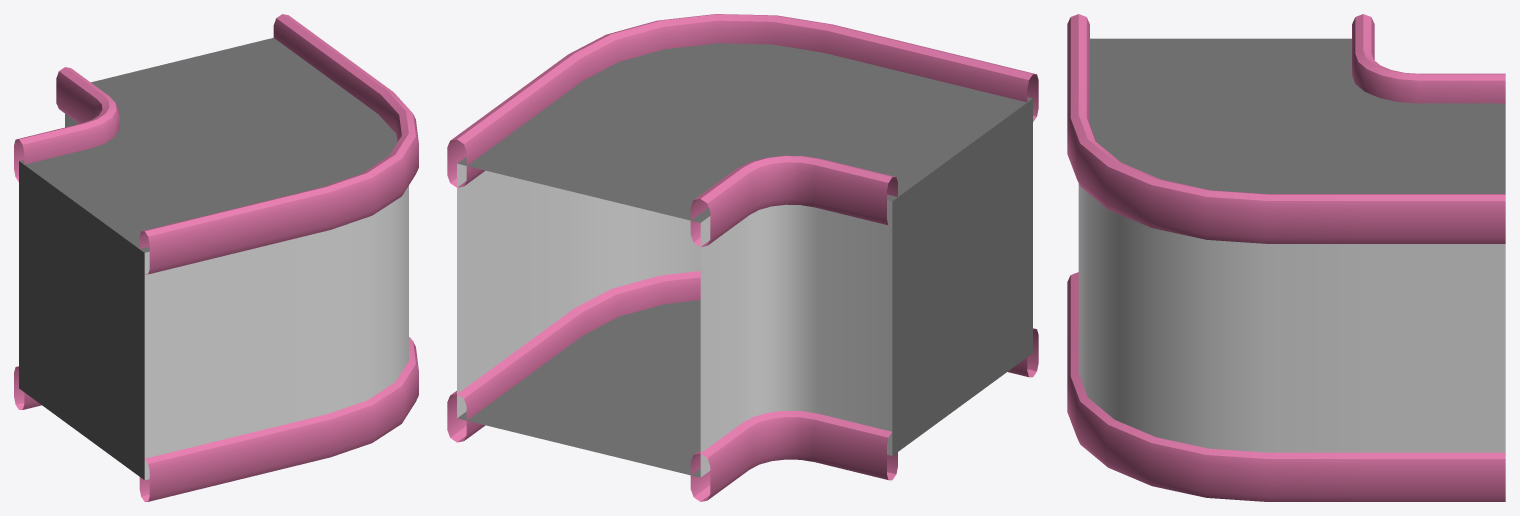
Rendered from parca2.fbx.
3 views of the same model, side by side, from view 1: azimuth 30°, elevation 25°; view 2: azimuth 150°, elevation 25°; view 3: azimuth 270°, elevation 25° (orthographic). The views are drawn at different scales.
Visible parts, largest first — view 1: 2; view 2: 2; view 3: 2.
Boxes of the visible parts, left/top/right/bottom form: 2: left=14, top=14, right=418, bottom=501; 2: left=447, top=14, right=1038, bottom=501; 2: left=1067, top=14, right=1505, bottom=501.
Size of the model in its own units: 3.08 by 2.38 by 3.08.
